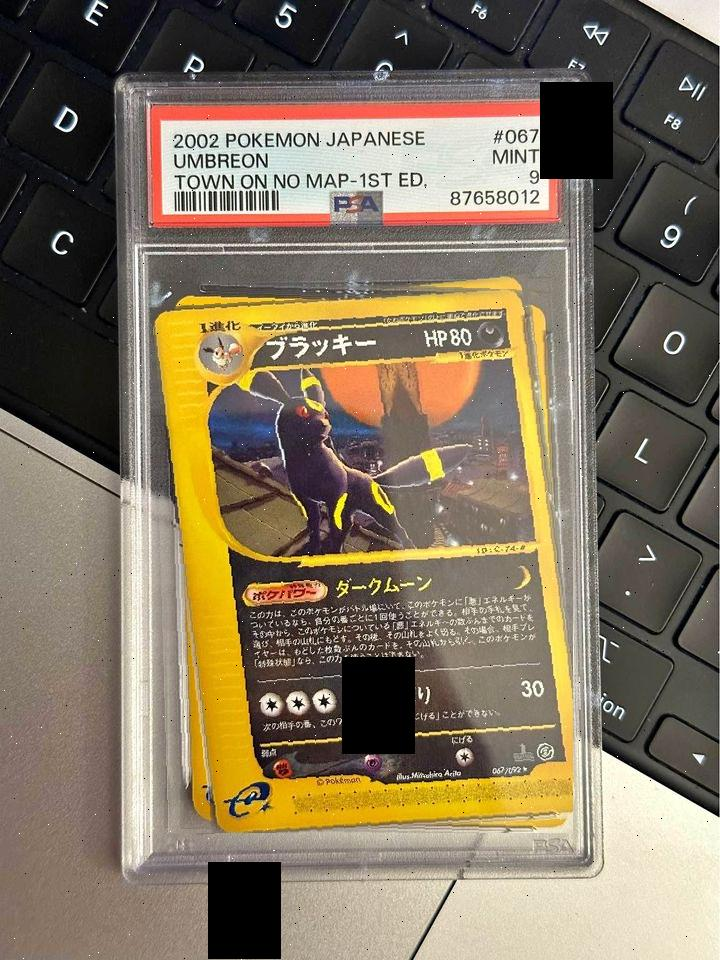card: (154, 290, 573, 833)
